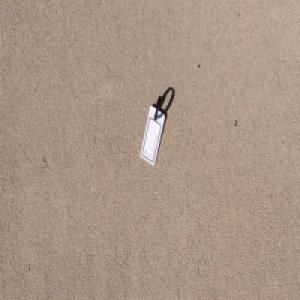LuggageTag: (139, 93, 165, 166)
